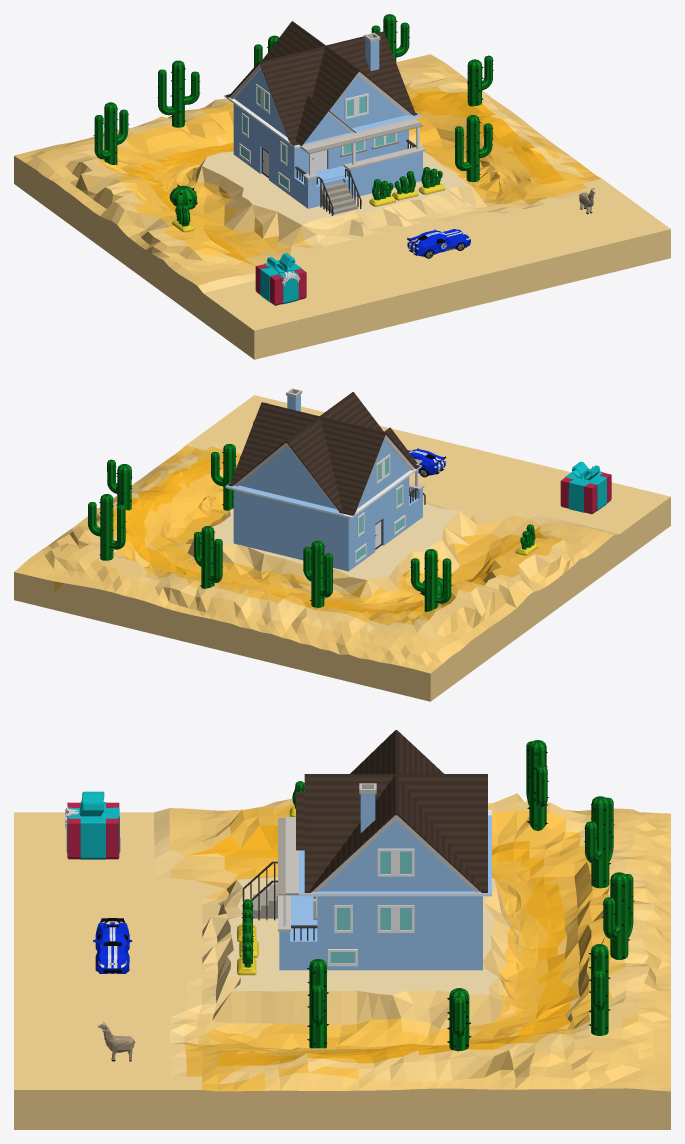
The picture shows the model from 3 angles, top to bottom: view 1: azimuth 30°, elevation 25°; view 2: azimuth 150°, elevation 25°; view 3: azimuth 270°, elevation 25°; orthographic projection. The views are drawn at different scales.
Parts seen in each view (by area): view 1: Cube.001, Cube.1594, OBJRANDOM_GIANT_PRESENT, Cylinder.037, Cylinder.044, Cylinder.045, VEHICLES_RACING_CAR, Cylinder.038, Cylinder.042, Cylinder.039, Cylinder.041, Sphere.023 (+1 smaller); view 2: Cube.001, Cube.1594, OBJRANDOM_GIANT_PRESENT, Cylinder.042, Cylinder.045, Cylinder.044, Cylinder.043, Cylinder.037, Cylinder.038, VEHICLES_RACING_CAR; view 3: Cube.001, Cube.1594, OBJRANDOM_GIANT_PRESENT, Cylinder.043, Cylinder.044, VEHICLES_RACING_CAR, Cylinder.045, Cylinder.042, Cylinder.037, Cylinder.038, ANIMAL_LLAMA, Cylinder.041.
Boxes of the visible parts, x1,y1,x2,y2 form: Cube.001: (14,54,670,359); Cube.1594: (224,21,425,215); OBJRANDOM_GIANT_PRESENT: (255,253,306,305); Cylinder.037: (454,115,493,182); Cylinder.044: (157,60,200,127); Cylinder.045: (93,102,129,164); VEHICLES_RACING_CAR: (407,229,470,258); Cylinder.038: (467,55,493,106); Cylinder.042: (371,14,409,62); Cylinder.039: (369,179,395,206); Cylinder.041: (418,167,445,194); Sphere.023: (169,184,197,209); Cube.001: (14,395,670,701); Cube.1594: (225,388,425,571); OBJRANDOM_GIANT_PRESENT: (560,461,611,514); Cylinder.042: (88,494,126,560); Cylinder.045: (410,549,452,611); Cylinder.044: (303,540,333,607); Cylinder.043: (193,526,222,588); Cylinder.037: (211,444,240,510); Cylinder.038: (107,459,131,510); VEHICLES_RACING_CAR: (408,448,445,477); Cube.001: (14,793,670,1129); Cube.1594: (242,730,491,970); OBJRANDOM_GIANT_PRESENT: (65,791,120,859); Cylinder.043: (602,872,634,959); Cylinder.044: (584,796,614,888); VEHICLES_RACING_CAR: (93,918,132,973); Cylinder.045: (526,740,548,830); Cylinder.042: (588,944,610,1035); Cylinder.037: (307,959,329,1048); Cylinder.038: (447,988,471,1051); ANIMAL_LLAMA: (98,1021,135,1061); Cylinder.041: (237,932,256,975).
Size of the model in its own units: 4002 by 1635 by 4001.
32 materials, 2 textured.
